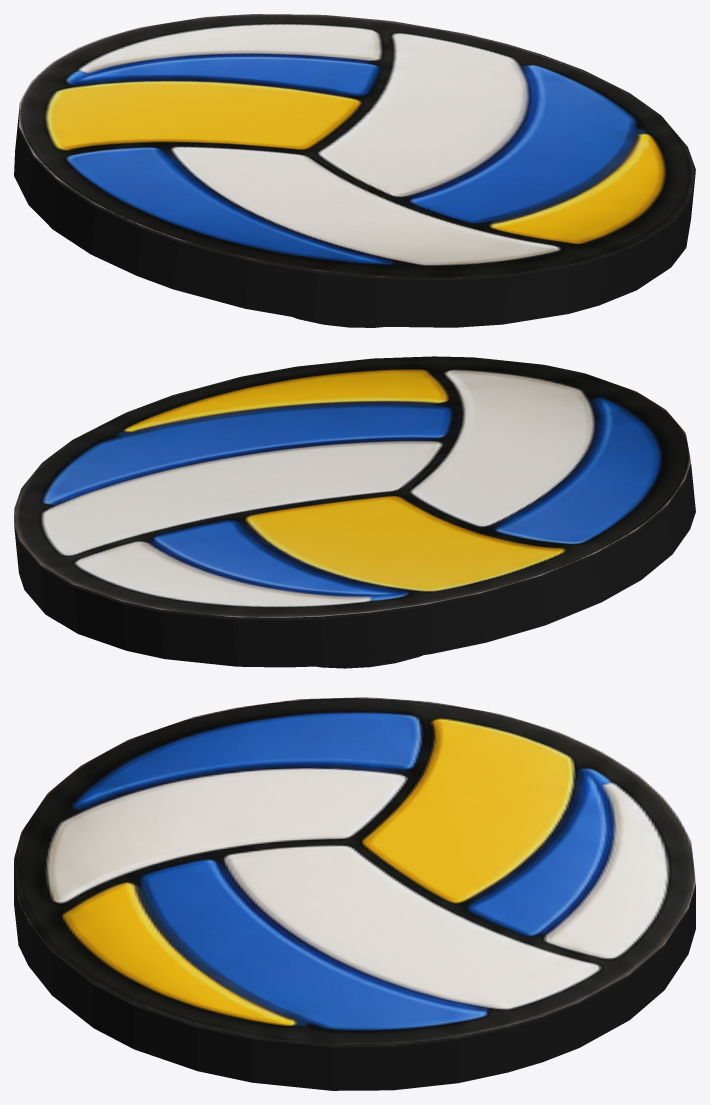
Rendered from sports-volleyball.glb.
3 renders of one model, top to bottom at view 1: azimuth 30°, elevation 25°; view 2: azimuth 150°, elevation 25°; view 3: azimuth 270°, elevation 25°, orthographic.
Visible parts, largest first — view 1: SPORTS_Volleyball_MODEL; view 2: SPORTS_Volleyball_MODEL; view 3: SPORTS_Volleyball_MODEL.
Part boxes in pixels (x1=…): SPORTS_Volleyball_MODEL: x1=14, y1=14, x2=695, y2=327; SPORTS_Volleyball_MODEL: x1=14, y1=356, x2=695, y2=668; SPORTS_Volleyball_MODEL: x1=14, y1=697, x2=695, y2=1090.
Size of the model in its own units: 0.3392 by 0.1007 by 0.3424.
3 materials, 1 textured.
